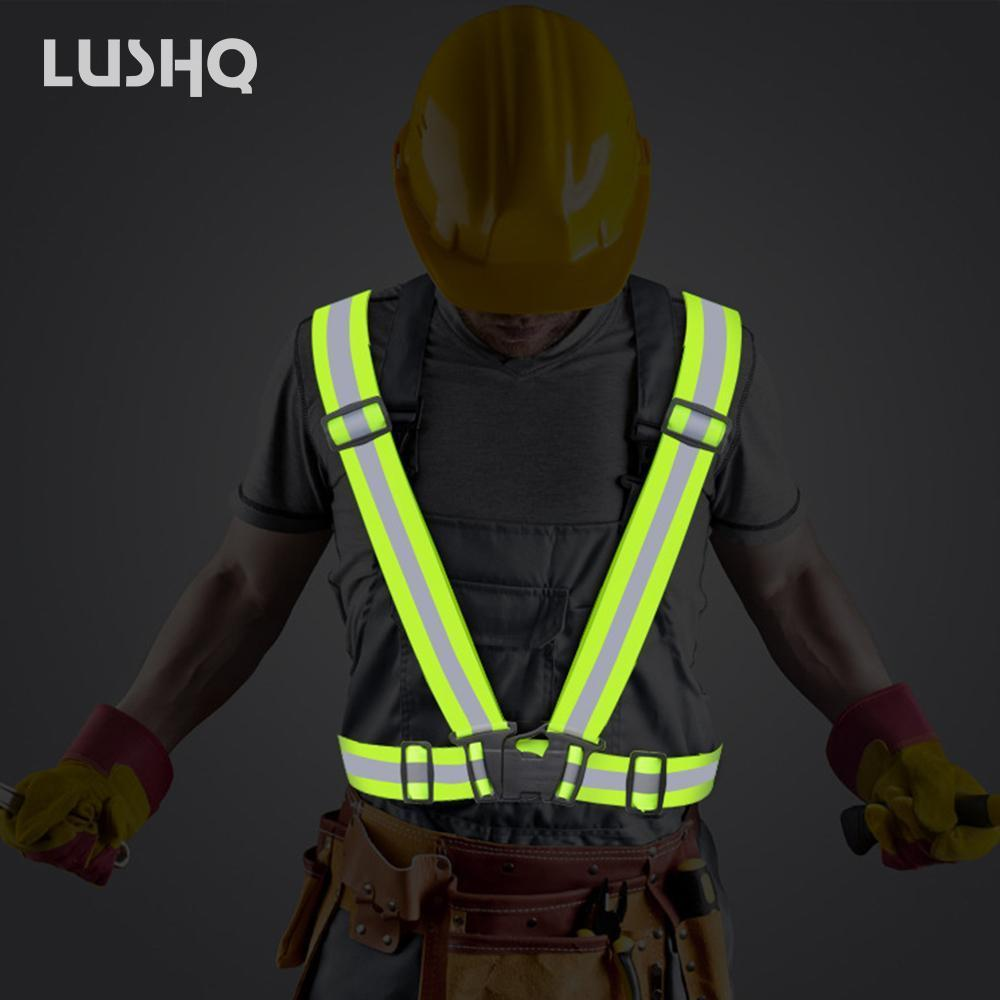Vest: (299, 272, 743, 809)
